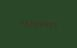five: (22, 18, 26, 27)
four: (17, 18, 21, 26), (42, 20, 46, 28)
seven: (52, 20, 56, 29)
three: (37, 19, 41, 28), (27, 19, 31, 27)
zero: (32, 19, 36, 27), (47, 20, 51, 28)
